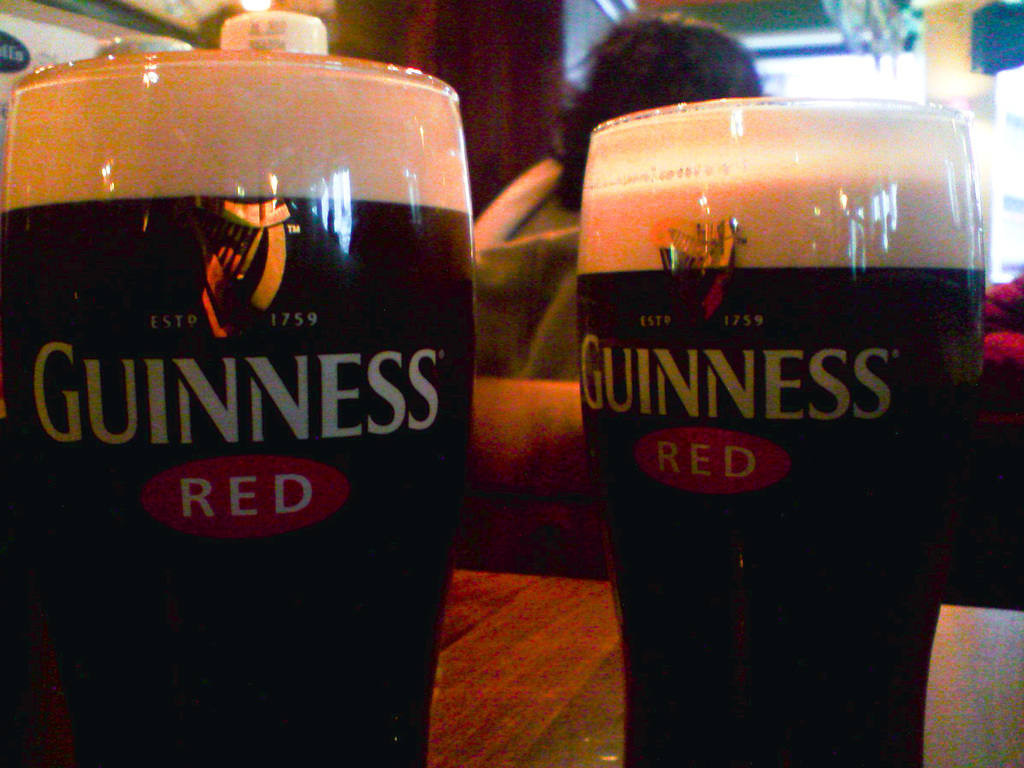Beer: (5, 59, 470, 767), (574, 113, 979, 767)
